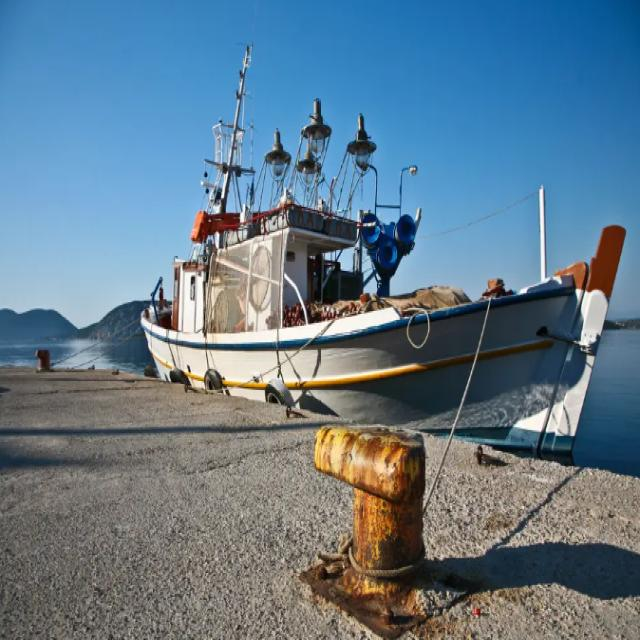fishing boat: (141, 53, 618, 456)
